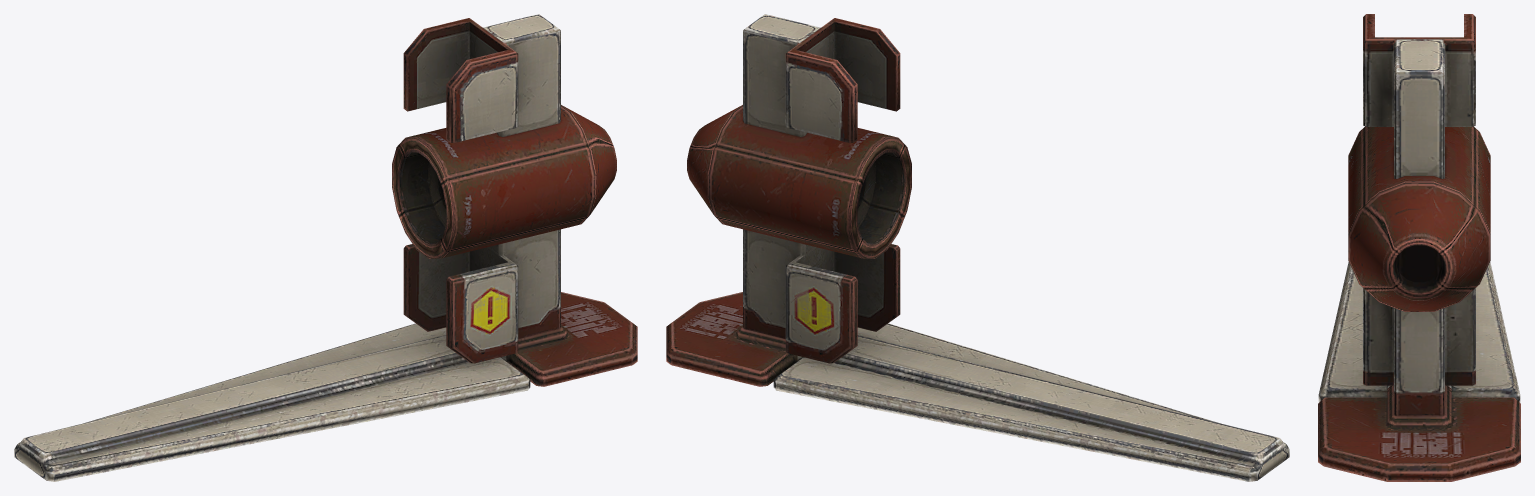
The model's file is chip_environment_storage_dock.dae.
3 renders of one model, left to right at view 1: azimuth 30°, elevation 25°; view 2: azimuth 150°, elevation 25°; view 3: azimuth 270°, elevation 25°, orthographic. The views are drawn at different scales.
Parts seen in each view (by area): view 1: chip_env_dock; view 2: chip_env_dock; view 3: chip_env_dock.
Boxes of the visible parts, left/top/right/bottom form: chip_env_dock: left=14, top=14, right=637, bottom=481; chip_env_dock: left=666, top=14, right=1289, bottom=481; chip_env_dock: left=1318, top=14, right=1520, bottom=481.
Size of the model in its own units: 0.311 by 0.1611 by 0.0802.
